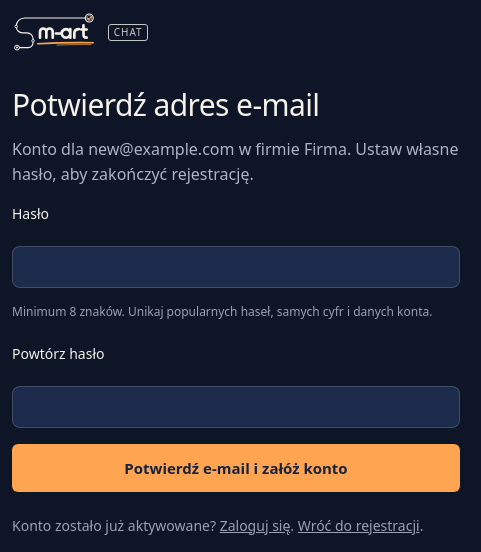
Test: aktywacja › link zużyty między podglądem a zatwierdzeniem: pełny komunikat, nie pierwsza litera
Type "Secret!Phrase729" into the password field labelled "Hasło".
click(236, 267); type("Secret!Phrase729")  # box [12,246,460,288]
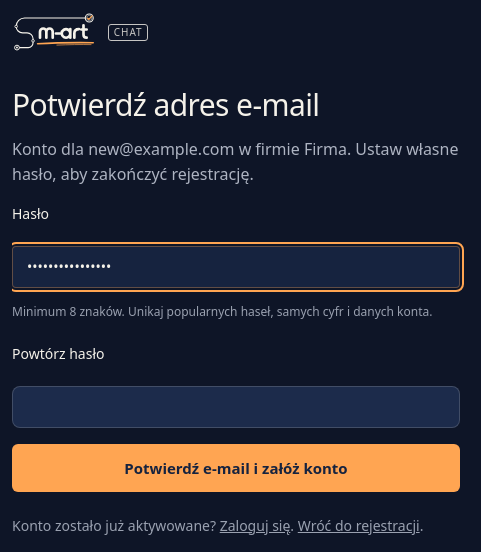
Type "Secret!Phrase729" into the password field labelled "Powtórz hasło".
click(236, 407); type("Secret!Phrase729")  # box [12,386,460,428]
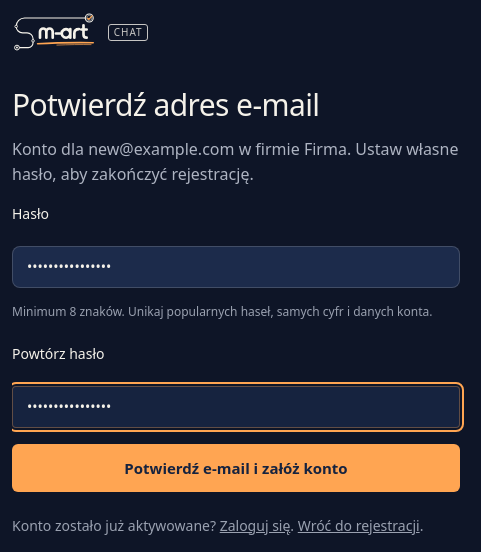
Click the button "Potwierdź e-mail i załóż konto".
click(236, 468)  # box [12,444,460,492]
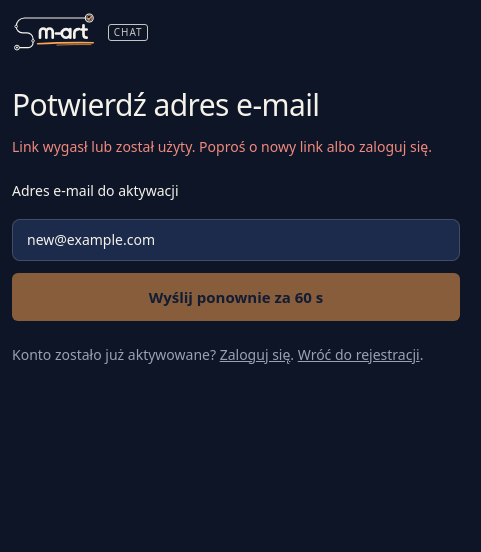
Check: the message reads "Link wygasł lub został użyty. Poproś o nowy link albo zaloguj się.", box [12,137,432,156]
